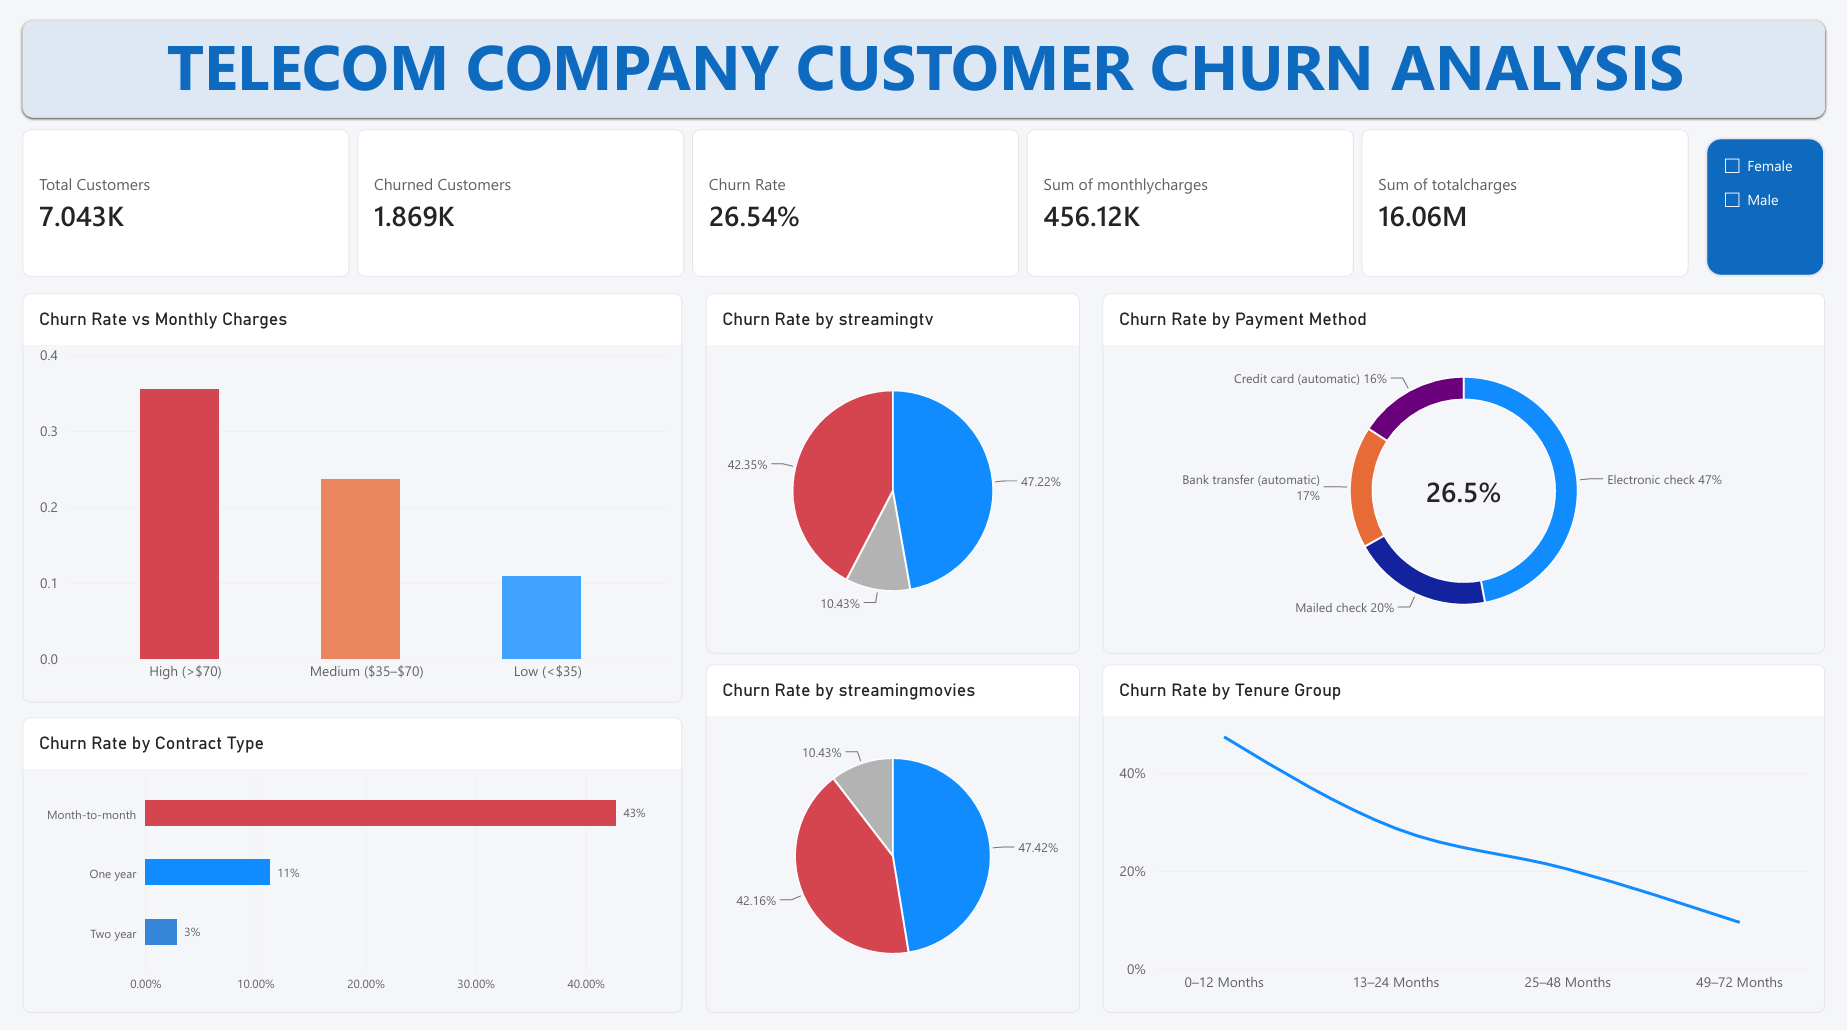

What the dashboard file says about the page in this screenshot:
{"tool":"powerbi","page":{"name":"Page 1","canvas":[1920,1080],"ordinal":0},"visuals":[{"type":"barChart","title":"Churn Rate by Contract Type","fields":{"Category":["customer_churn_clean.contract"],"Y":["customer_churn_clean.Churn Rate"]},"box":[25.4,729.5,672,301.6],"z":0},{"type":"slicer","fields":{"Values":["customer_churn_clean.gender"]},"box":[1739,138.6,121.6,142.3],"z":2000},{"type":"clusteredColumnChart","title":"Churn Rate vs  Monthly Charges","fields":{"Category":["customer_churn_clean.Monthly Charge Group"],"Y":["customer_churn_clean.Churn Rate"]},"box":[25.4,297.8,672,417.6],"z":4000},{"type":"textbox","title":"TELECOM COMPANY CUSTOMER CHURN ANALYSIS","box":[25.4,19.8,1835.2,99],"z":5000},{"type":"cardVisual","fields":{"Data":["customer_churn_clean.Total Customers","customer_churn_clean.Churned Customers","customer_churn_clean.Churn Rate","Sum(customer_churn_clean.monthlycharges)","Sum(customer_churn_clean.totalcharges)"]},"box":[24.9,130.9,1700.2,150.2],"z":6000},{"type":"donutChart","title":"Churn Rate by Payment Method","fields":{"Category":["customer_churn_clean.paymentmethod"],"Y":["customer_churn_clean.Churn Rate"]},"box":[1125.4,297.8,735.2,367.6],"z":7000},{"type":"lineChart","fields":{"Category":["customer_churn_clean.Tenure Group"],"Y":["customer_churn_clean.Churn Rate"]},"box":[1125.4,675.8,735.2,355.3],"z":8000},{"type":"pieChart","fields":{"Category":["customer_churn_clean.streamingmovies"],"Y":["customer_churn_clean.Churn Rate"]},"box":[721.1,675.8,380.8,355.3],"z":9000},{"type":"pieChart","fields":{"Series":["customer_churn_clean.streamingtv"],"Y":["customer_churn_clean.Churn Rate"]},"box":[721.1,297.8,380.8,367.6],"z":9001}]}

Visuals, with their boxes in screenshot pixels (x1, y1, x2, y2), scaled from the page's 1920x1080 canvas onto the 1847x1030 screenshot:
"Churn Rate by Contract Type" barChart: {"x1": 24, "y1": 696, "x2": 671, "y2": 983}
slicer - customer_churn_clean.gender: {"x1": 1673, "y1": 132, "x2": 1790, "y2": 268}
"Churn Rate vs  Monthly Charges" clusteredColumnChart: {"x1": 24, "y1": 284, "x2": 671, "y2": 682}
"TELECOM COMPANY CUSTOMER CHURN ANALYSIS" textbox: {"x1": 24, "y1": 19, "x2": 1790, "y2": 113}
cardVisual - customer_churn_clean.Total Customers x customer_churn_clean.Churned Customers: {"x1": 24, "y1": 125, "x2": 1660, "y2": 268}
"Churn Rate by Payment Method" donutChart: {"x1": 1083, "y1": 284, "x2": 1790, "y2": 635}
lineChart - customer_churn_clean.Tenure Group x customer_churn_clean.Churn Rate: {"x1": 1083, "y1": 645, "x2": 1790, "y2": 983}
pieChart - customer_churn_clean.streamingmovies x customer_churn_clean.Churn Rate: {"x1": 694, "y1": 645, "x2": 1060, "y2": 983}
pieChart - customer_churn_clean.streamingtv x customer_churn_clean.Churn Rate: {"x1": 694, "y1": 284, "x2": 1060, "y2": 635}
